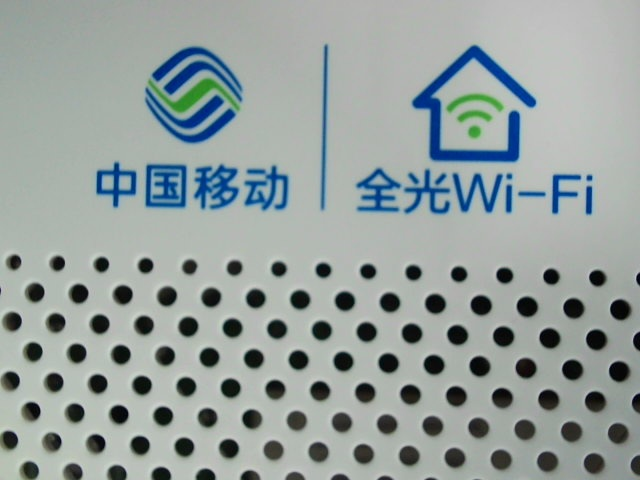BJ_QuanGuangMobile: (79, 41, 596, 225)
